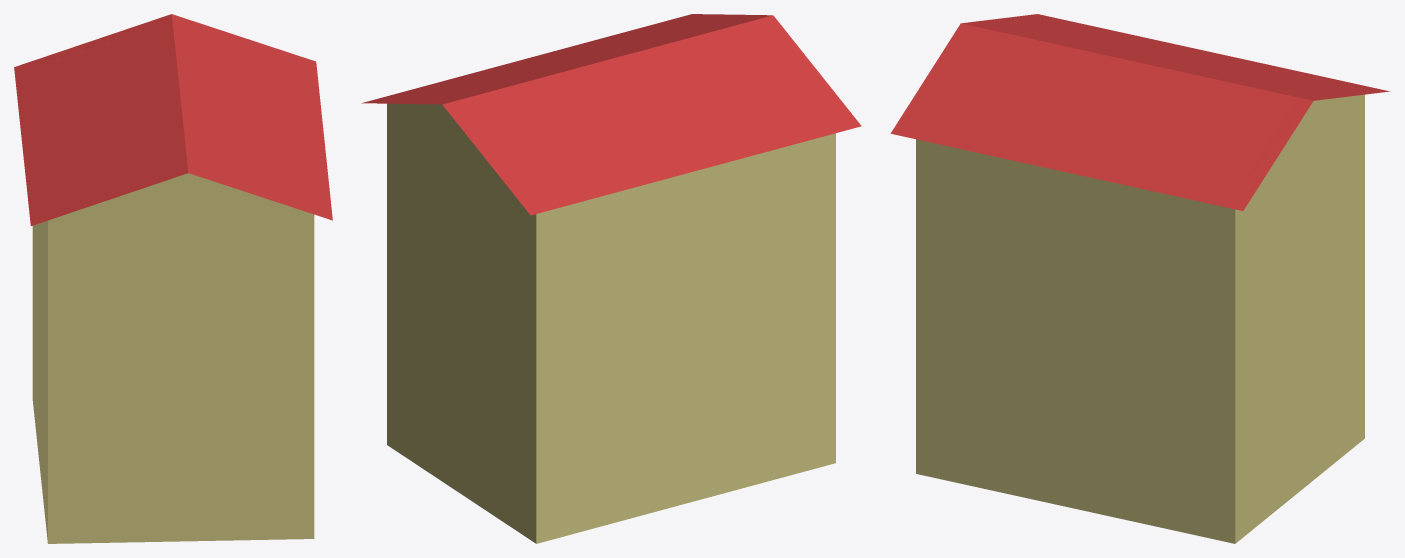
3 renders of one model, left to right at view 1: azimuth 30°, elevation 25°; view 2: azimuth 150°, elevation 25°; view 3: azimuth 270°, elevation 25°, orthographic. The views are drawn at different scales.
Size of the model in its own units: 6.17 by 6.61 by 5.79.
